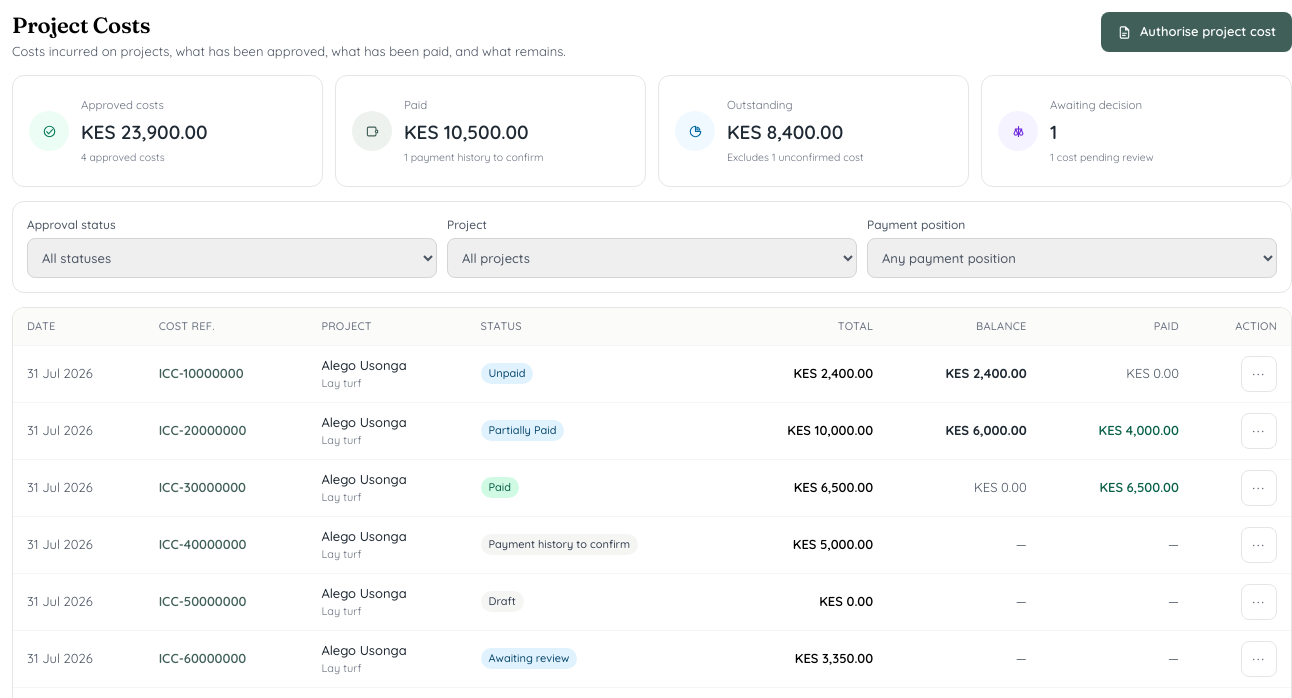
Test: Project Costs register — payment position as row status › leaves the row action menu unchanged
Click the button "···" in the row of "ICC-20000000".
click(1259, 430)  # box [1241, 412, 1277, 448]
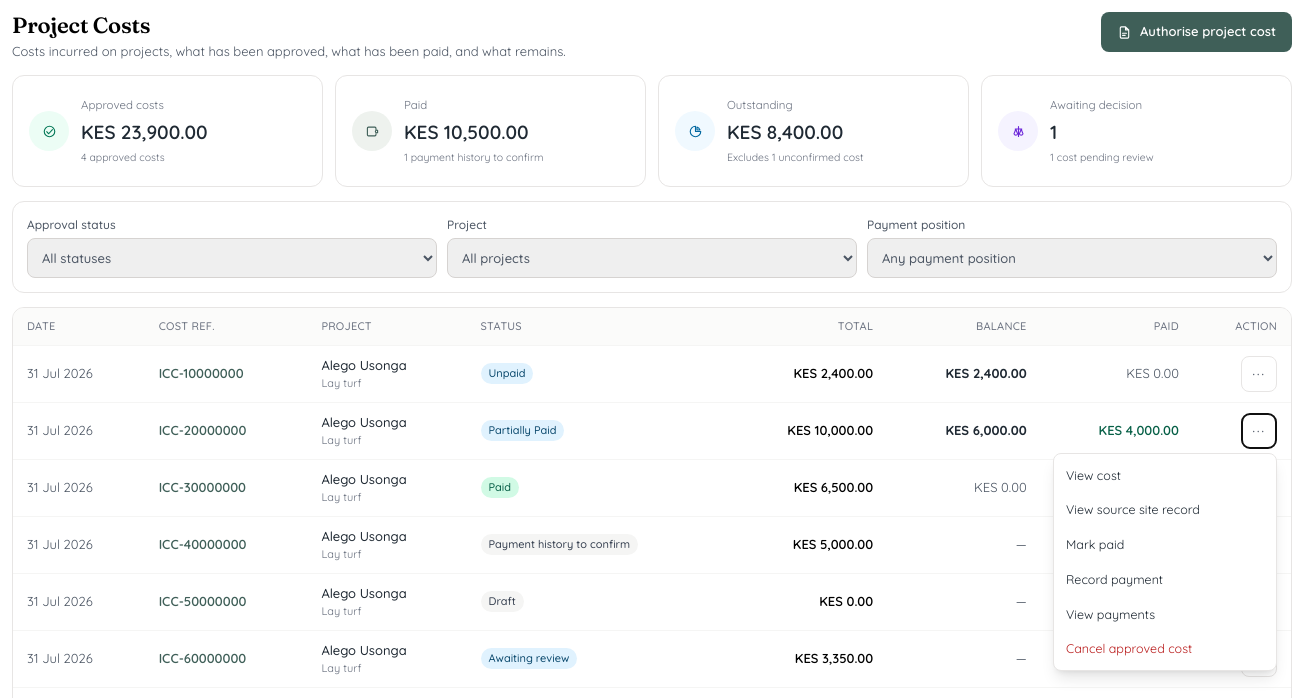
Expected: the menu item "View cost" is shown, [1066, 466, 1121, 482]
Expected: the menu item "Mark paid" is shown, [1066, 536, 1124, 552]
Expected: the menu item "Record payment" is shown, [1066, 571, 1163, 587]
